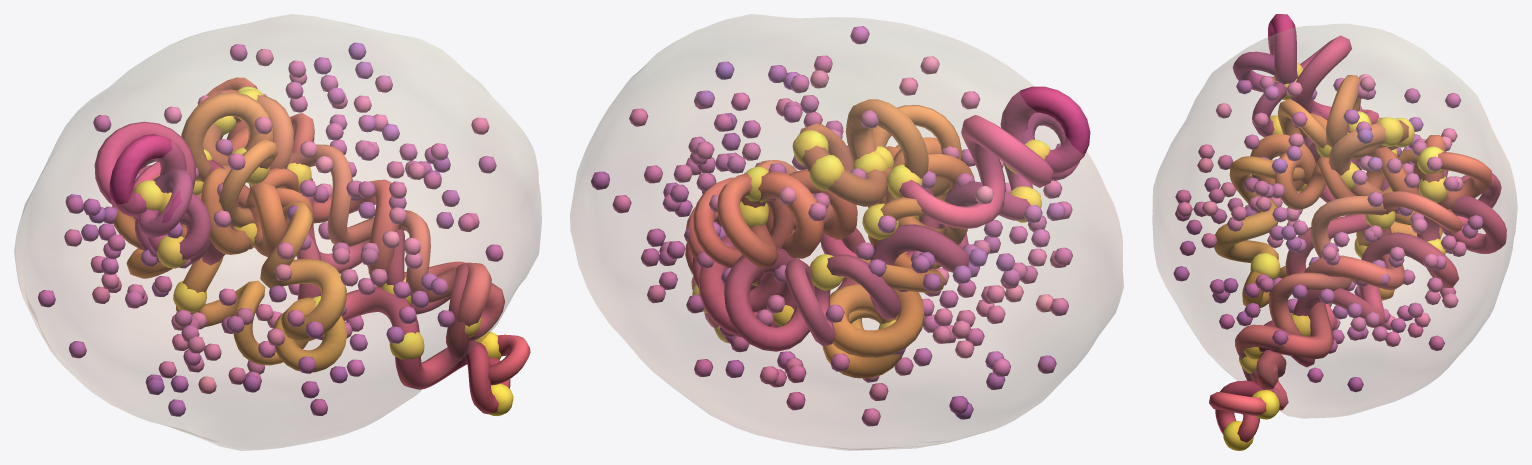
File: nucleoid.glb
3 views of the same model, side by side, from view 1: azimuth 30°, elevation 25°; view 2: azimuth 150°, elevation 25°; view 3: azimuth 270°, elevation 25° (orthographic). The views are drawn at different scales.
Parts seen in each view (by area): view 1: nucleoid-cloud, nucleoid-fibre, nucleoid-speckles, nucleoid-proteins; view 2: nucleoid-cloud, nucleoid-fibre, nucleoid-speckles, nucleoid-proteins; view 3: nucleoid-cloud, nucleoid-fibre, nucleoid-speckles, nucleoid-proteins.
Part boxes in pixels (x1,y1,x2,y2): nucleoid-cloud: [14, 14, 541, 450]; nucleoid-fibre: [94, 77, 530, 414]; nucleoid-speckles: [38, 42, 503, 416]; nucleoid-proteins: [134, 86, 513, 416]; nucleoid-cloud: [570, 14, 1123, 450]; nucleoid-fibre: [685, 86, 1090, 378]; nucleoid-speckles: [591, 26, 1072, 426]; nucleoid-proteins: [692, 130, 1050, 343]; nucleoid-cloud: [1152, 24, 1517, 418]; nucleoid-fibre: [1209, 14, 1506, 442]; nucleoid-speckles: [1173, 74, 1483, 392]; nucleoid-proteins: [1223, 62, 1448, 450].
Size of what is drawn, in the model's own units: 3.26 by 2.42 by 2.43.
